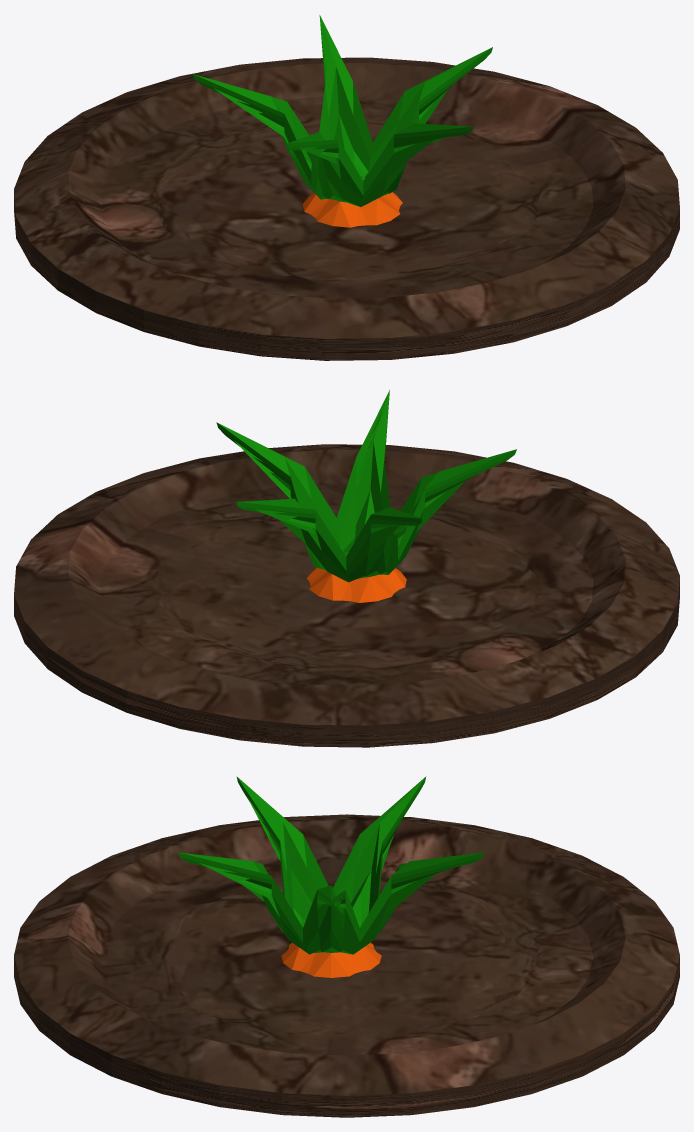
Rendered from carrot1.fbx.
The picture shows the model from 3 angles, top to bottom: view 1: azimuth 30°, elevation 25°; view 2: azimuth 150°, elevation 25°; view 3: azimuth 270°, elevation 25°; orthographic projection.
Parts seen in each view (by area): view 1: Cylinder.003; view 2: Cylinder.003; view 3: Cylinder.003.
Part boxes in pixels (x1,y1,x2,y2): Cylinder.003: (14,15,679,360); Cylinder.003: (14,390,679,747); Cylinder.003: (14,776,679,1117).
Bounding box in the file's own units: 20 × 4.8 × 20.
